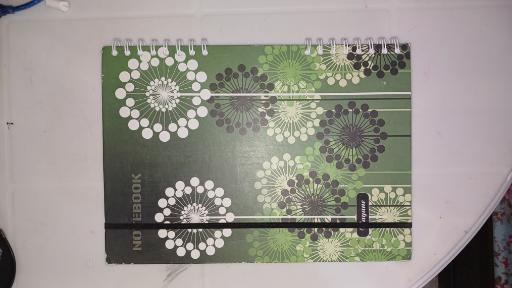notebook: (103, 35, 412, 264)
